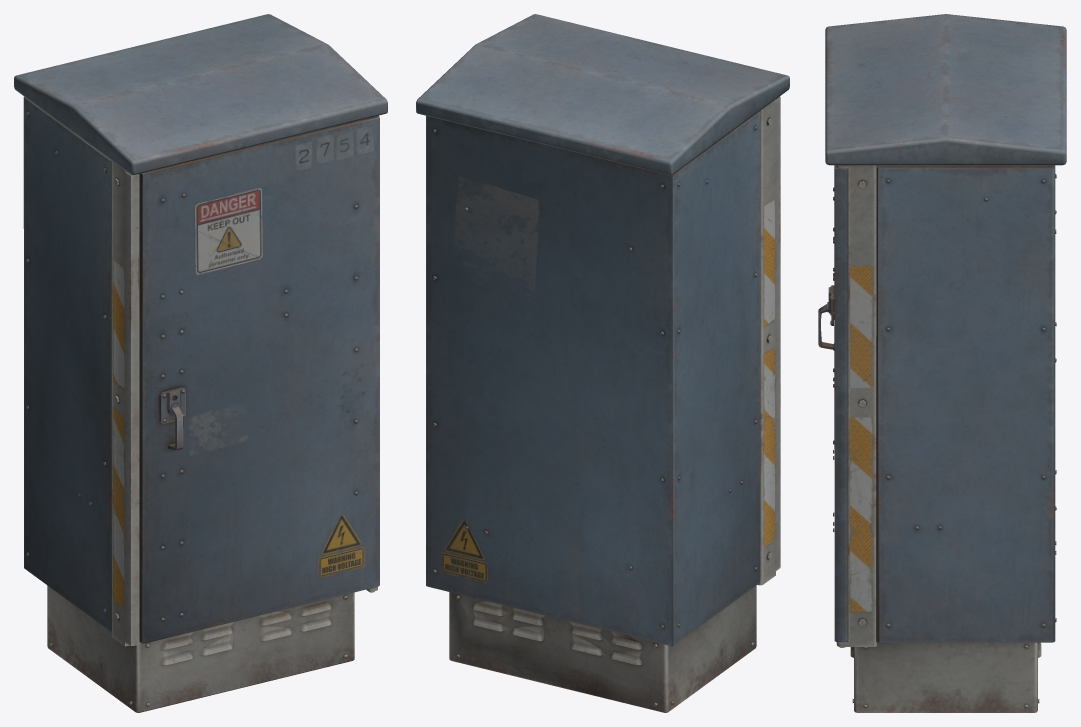
Rendered from utility_box_01.glb.
The picture shows the model from 3 angles, left to right: view 1: azimuth 30°, elevation 25°; view 2: azimuth 150°, elevation 25°; view 3: azimuth 270°, elevation 25°; orthographic projection.
Parts seen in each view (by area): view 1: utility_box_01_box; view 2: utility_box_01_box; view 3: utility_box_01_box.
Part boxes in pixels (x1,y1,x2,y2): utility_box_01_box: (14, 14, 387, 712); utility_box_01_box: (416, 14, 789, 712); utility_box_01_box: (818, 14, 1066, 712).
Size of the model in its own units: 0.52 by 1.12 by 0.432.
Materials: 1 (1 with a texture image).
